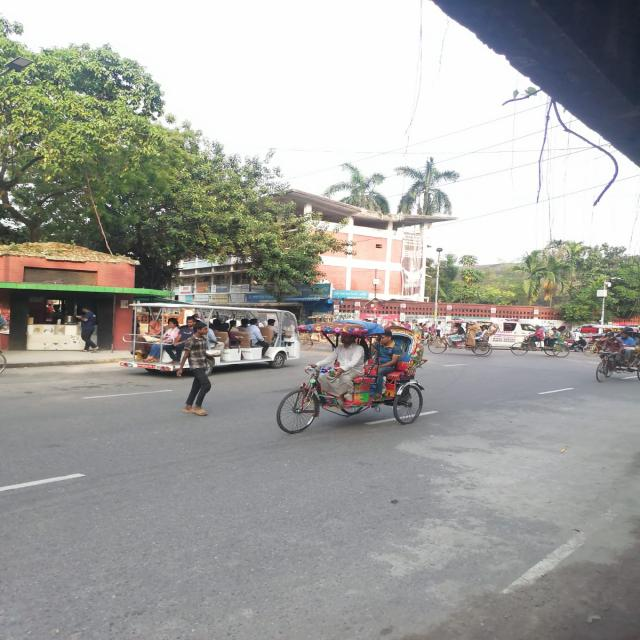person: (177, 322, 211, 416)
